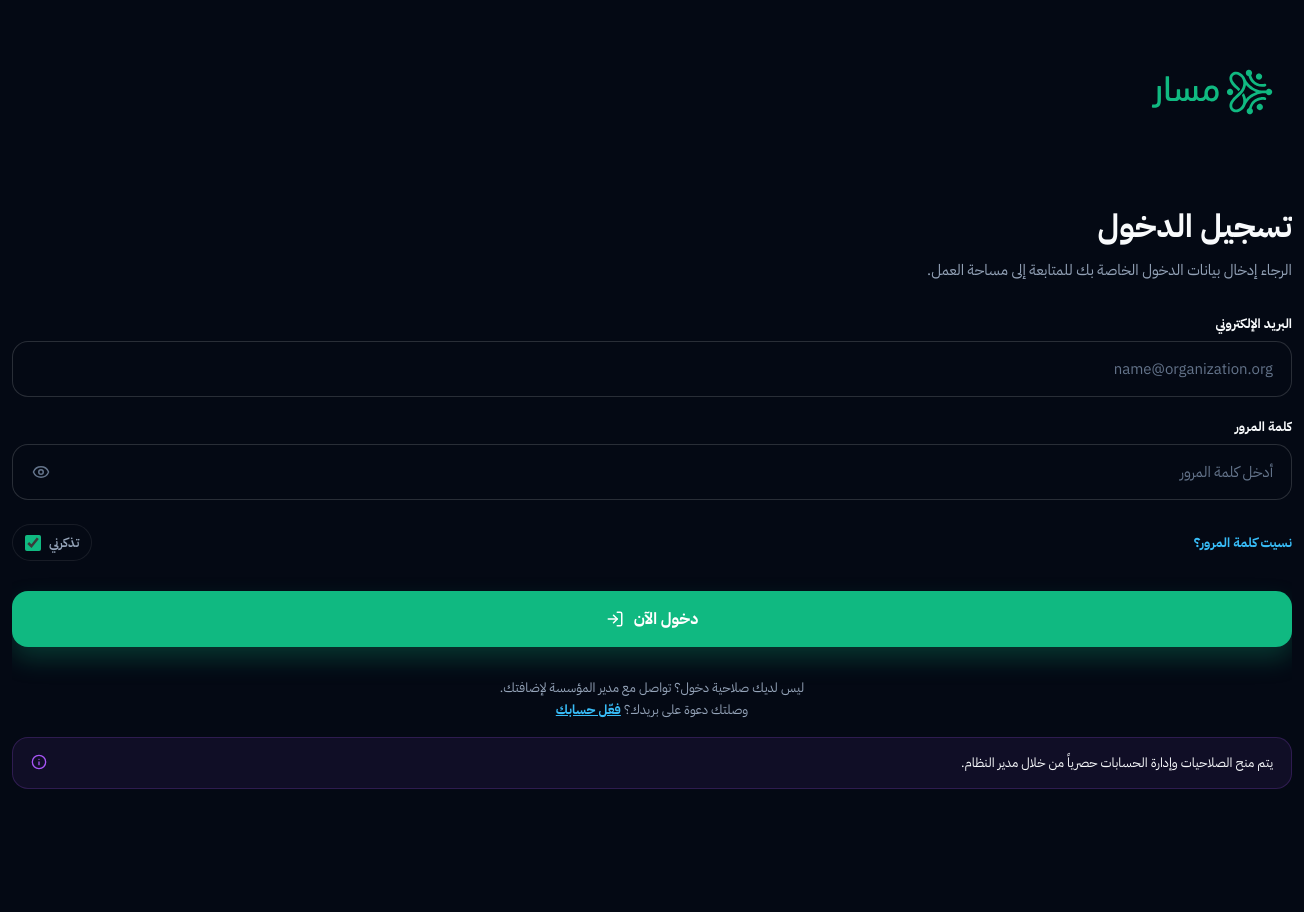
Test: LoginForm (was a setTimeout mock) › shows the server's message in an error banner on wrong credentials and does NOT navigate
This screenshot has width=1304, height=912.
Type "admin@org.org" into the field labelled "البريد الإلكتروني" at (652, 369), box [12,341,1292,397]
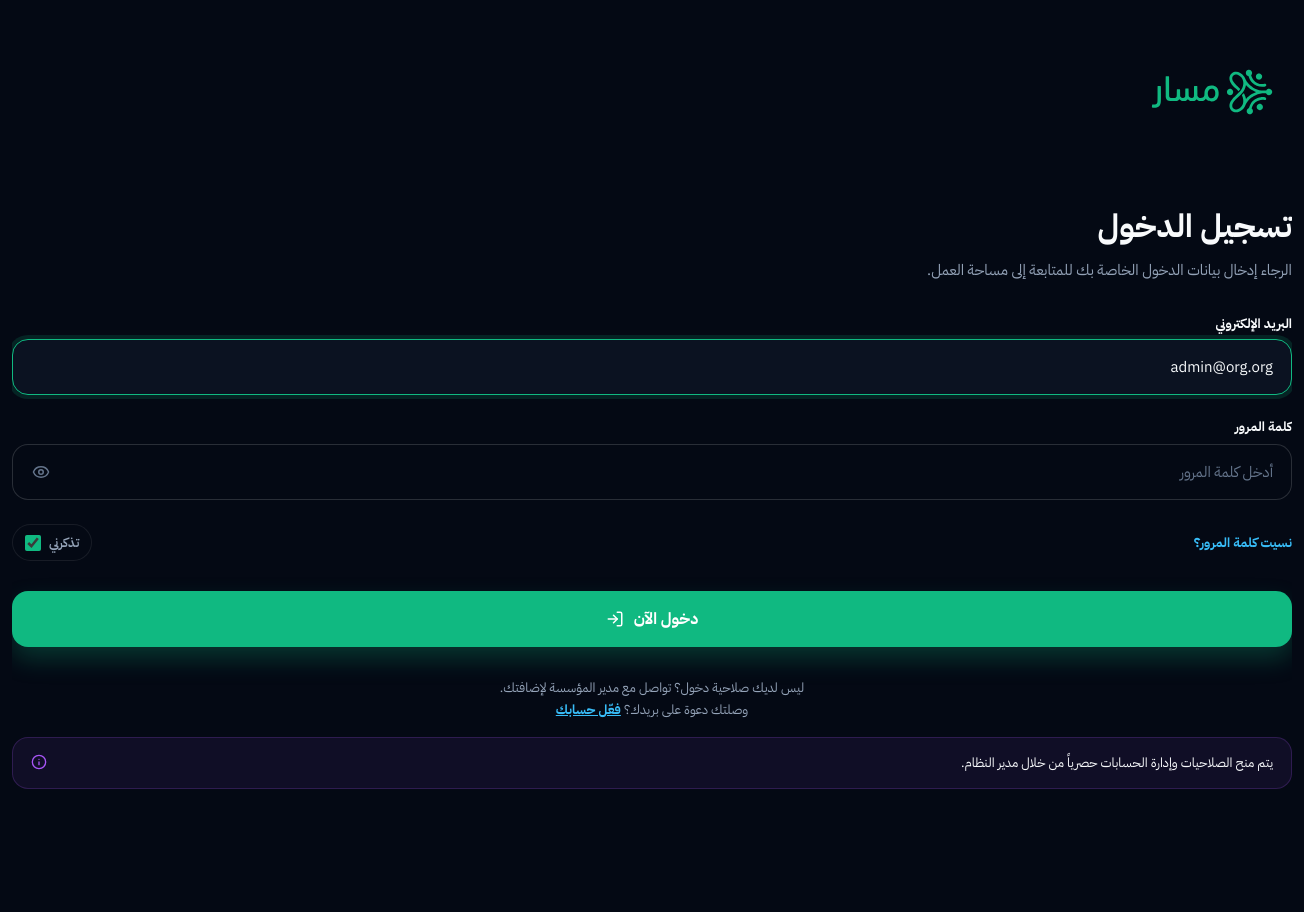
Type "wrong" into the password field labelled "كلمة المرور" at (652, 472), box [12,444,1292,500]
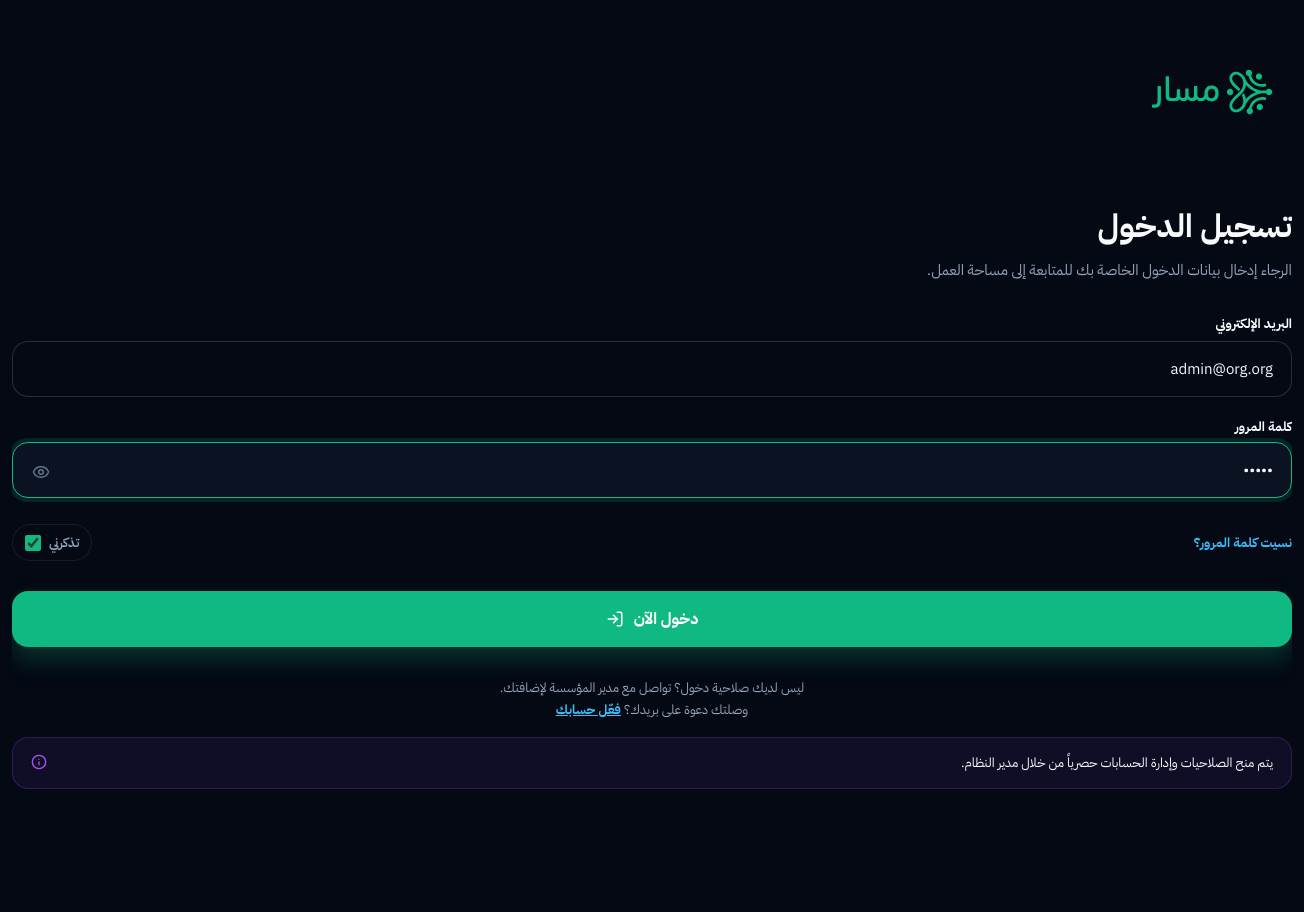
Click the button "دخول الآن" at (652, 619), box [12,591,1292,647]
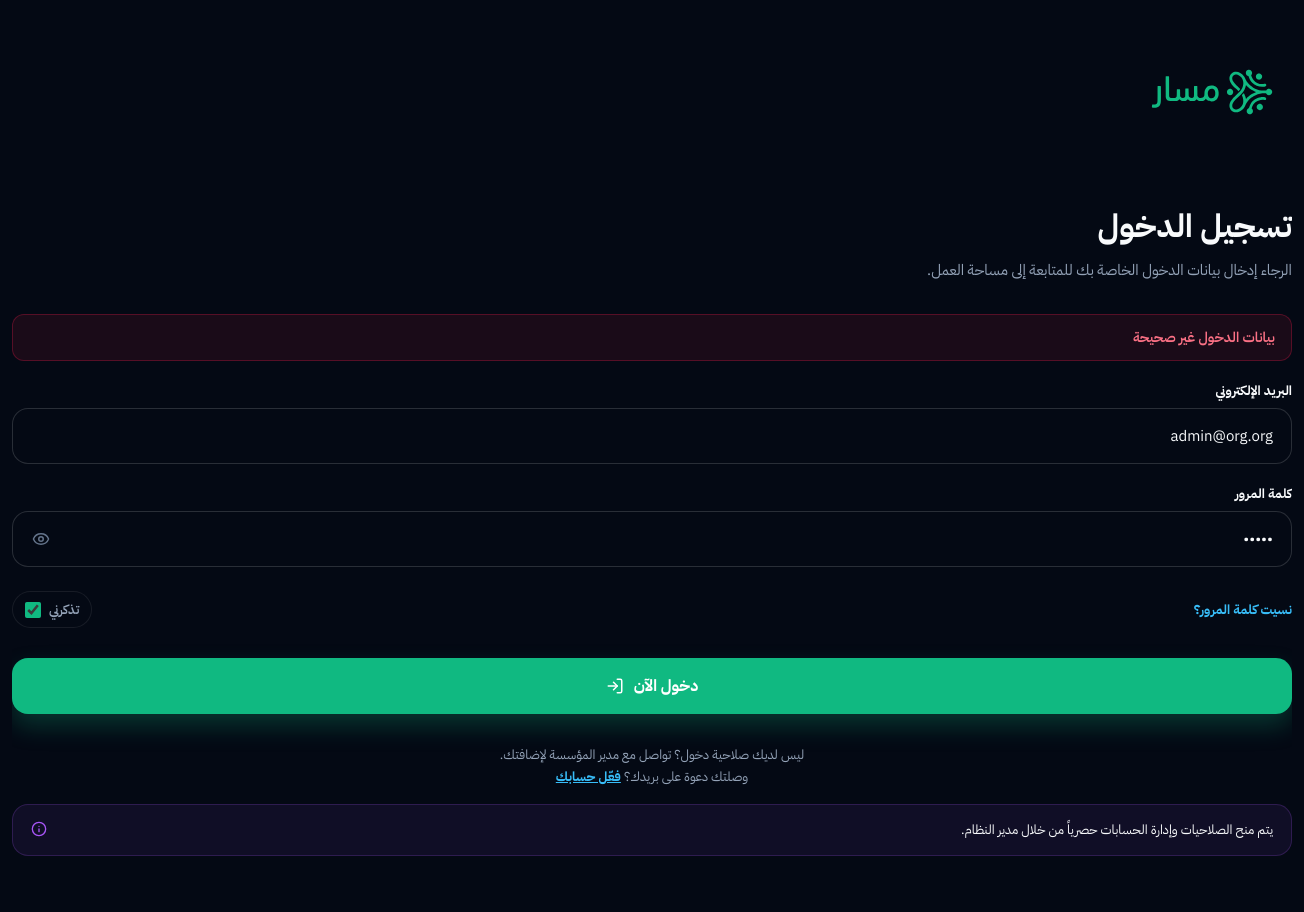
Expected: the button "دخول الآن" is enabled, [12,658,1292,714]
Result: the message reads "بيانات الدخول غير صحيحة" at [1133,327,1275,348]
